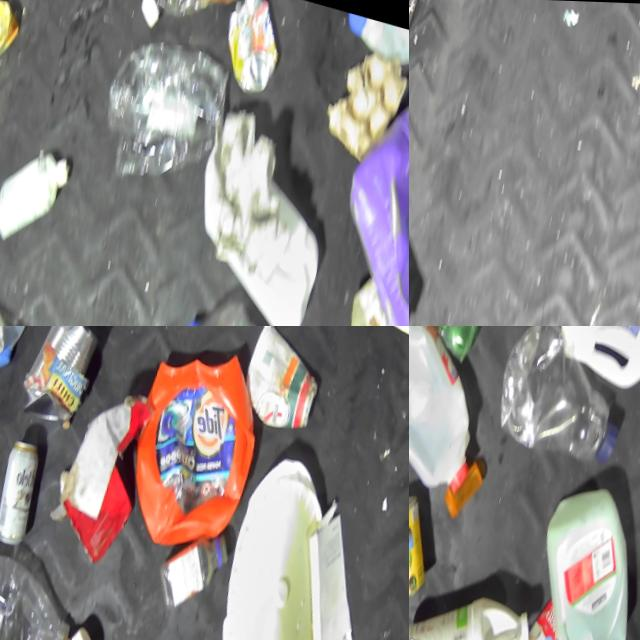can: (3, 326, 101, 434), (232, 339, 323, 443), (208, 0, 293, 96), (0, 436, 47, 550), (409, 487, 433, 603), (0, 0, 28, 74)
milk_jug: (409, 326, 498, 492), (335, 7, 409, 76)
non_white_jug: (106, 341, 267, 568), (295, 49, 409, 326), (514, 484, 640, 640)
plastic_bottle: (0, 542, 74, 640), (147, 284, 312, 326), (131, 0, 221, 40)
